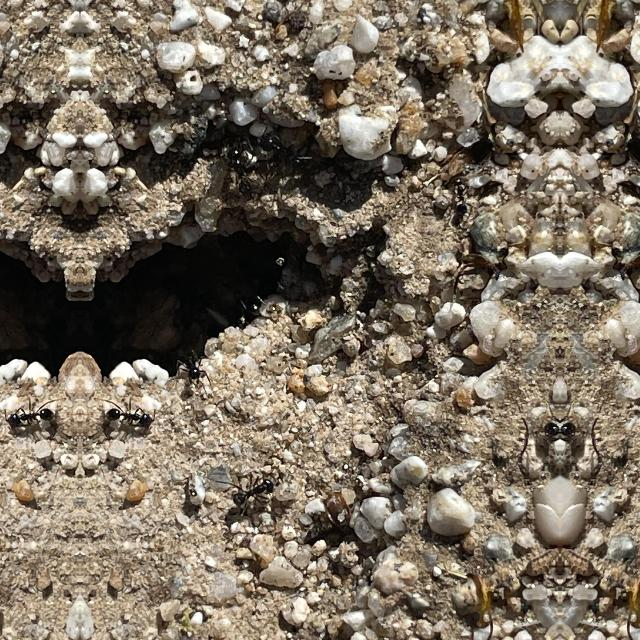Messor: (94, 388, 152, 429), (8, 388, 66, 429), (223, 125, 277, 164), (225, 472, 272, 506), (444, 170, 474, 213), (176, 349, 206, 377), (540, 410, 560, 440), (560, 410, 580, 440)
